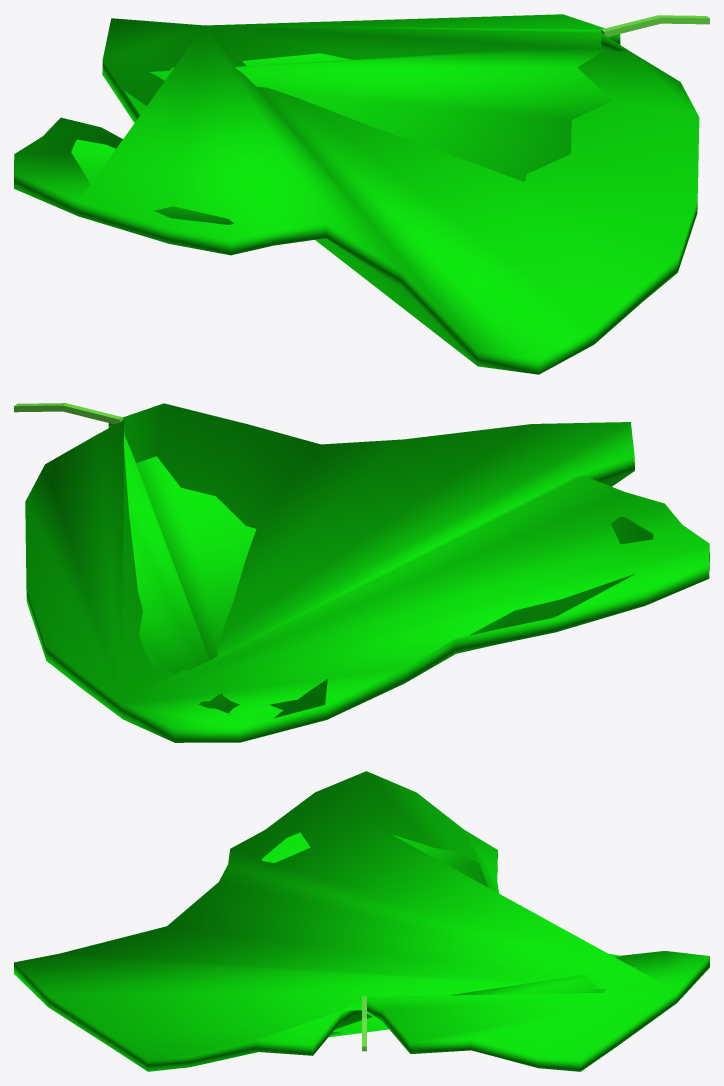
File: leaf4.1.fbx
The picture shows the model from 3 angles, top to bottom: view 1: azimuth 30°, elevation 25°; view 2: azimuth 150°, elevation 25°; view 3: azimuth 270°, elevation 25°; orthographic projection. The views are drawn at different scales.
Parts seen in each view (by area): view 1: 円, Cube; view 2: 円, Cube; view 3: 円.
Part boxes in pixels (left/top/right/bottom): 円: left=14, top=14, right=699, bottom=374; Cube: left=601, top=15, right=709, bottom=36; 円: left=25, top=403, right=709, bottom=742; Cube: left=14, top=403, right=123, bottom=424; 円: left=14, top=771, right=709, bottom=1071.
Size of the model in its own units: 242 by 44.15 by 268.
